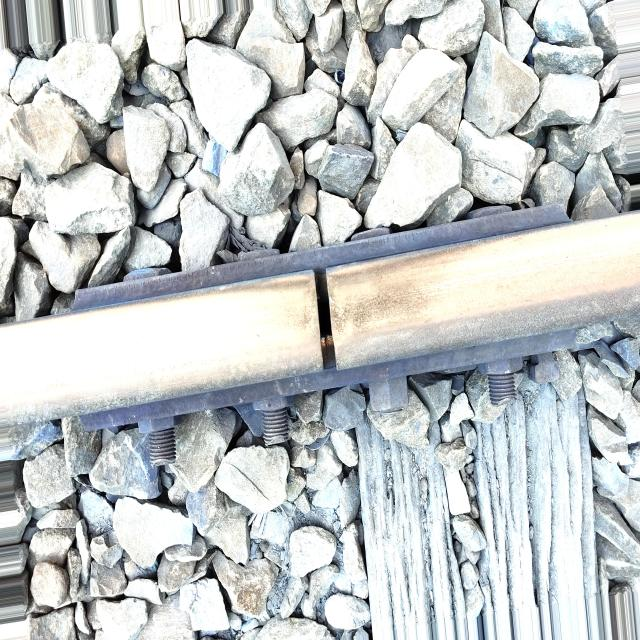crack: (294, 258, 356, 394)
